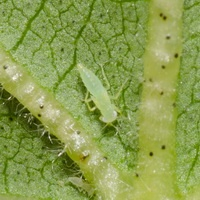insect: (170, 0, 199, 199), (1, 112, 48, 197), (75, 61, 122, 131)
